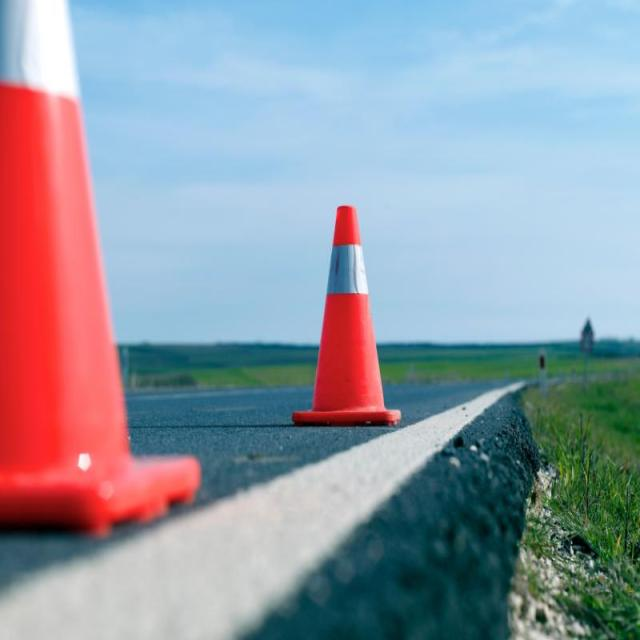Traffic Cone: (248, 160, 444, 466)
